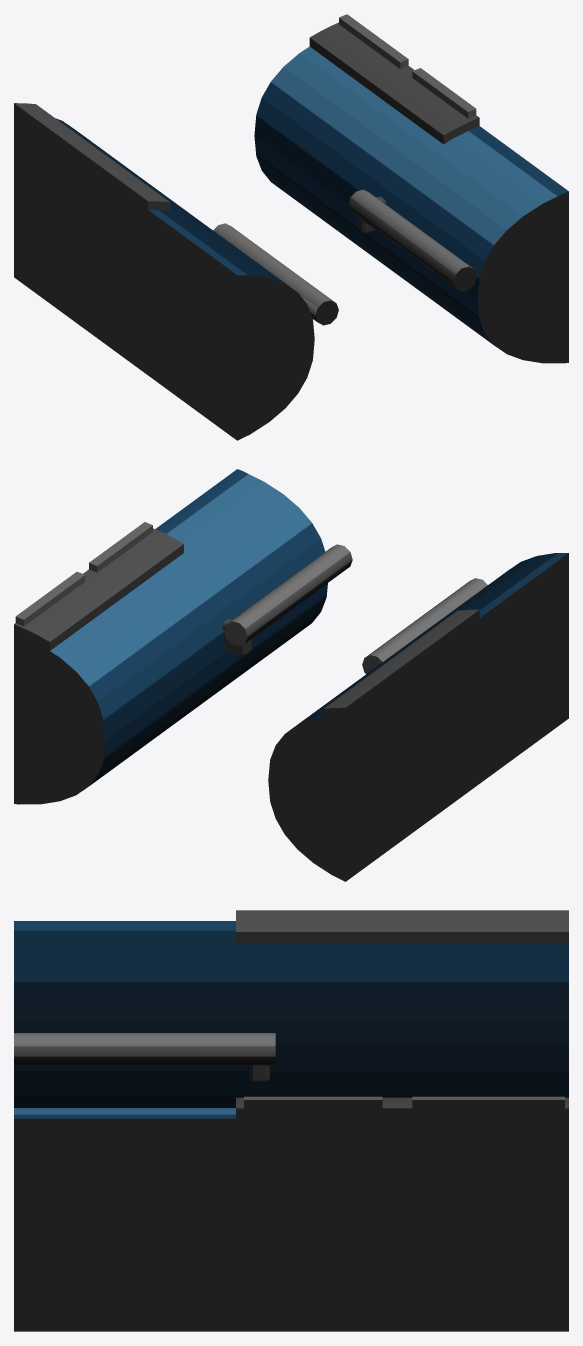
The model's file is camanis_boss_43.glb.
3 renders of one model, top to bottom at view 1: azimuth 30°, elevation 25°; view 2: azimuth 150°, elevation 25°; view 3: azimuth 270°, elevation 25°, orthographic. The views are drawn at different scales.
Visible parts, largest first — view 1: camanis_boss_43; view 2: camanis_boss_43; view 3: camanis_boss_43.
Boxes of the visible parts, <box> form: camanis_boss_43: <box>14,14,568,440</box>; camanis_boss_43: <box>14,469,568,881</box>; camanis_boss_43: <box>14,910,568,1331</box>.
Bounding box in the file's own units: 24 × 12.89 × 28.
